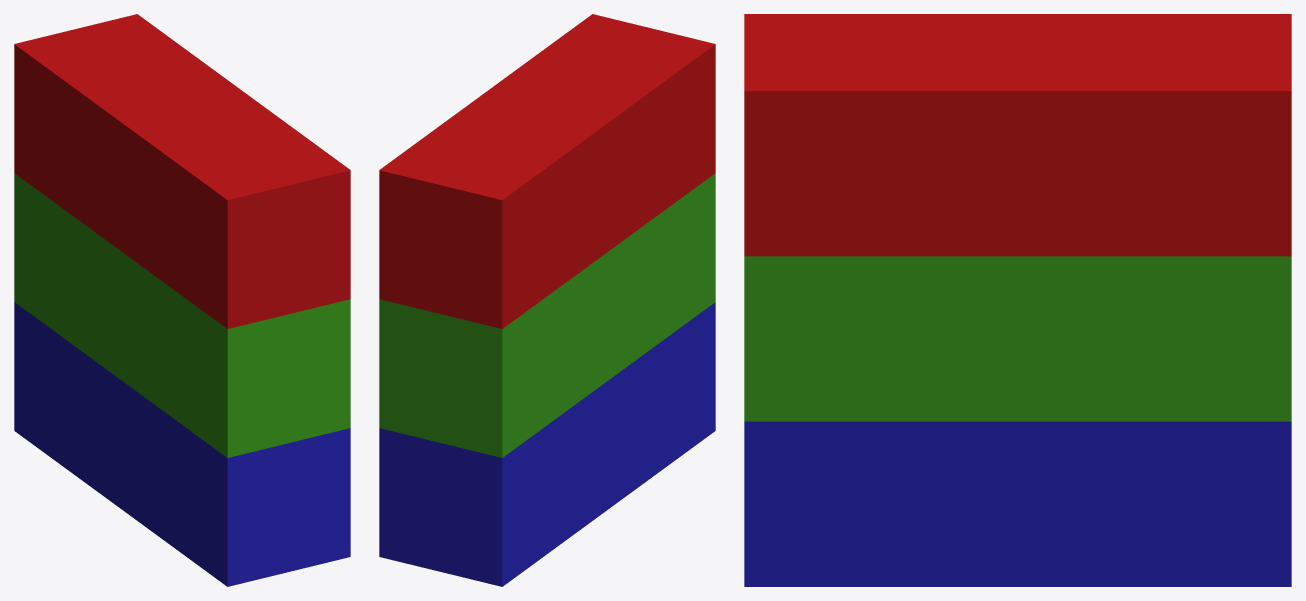
File: BombPort2Wire.obj
3 renders of one model, left to right at view 1: azimuth 30°, elevation 25°; view 2: azimuth 150°, elevation 25°; view 3: azimuth 270°, elevation 25°, orthographic. The views are drawn at different scales.
Bounding box in the file's own units: 0.1 × 0.3 × 0.3.
Materials: 1 (1 with a texture image).
